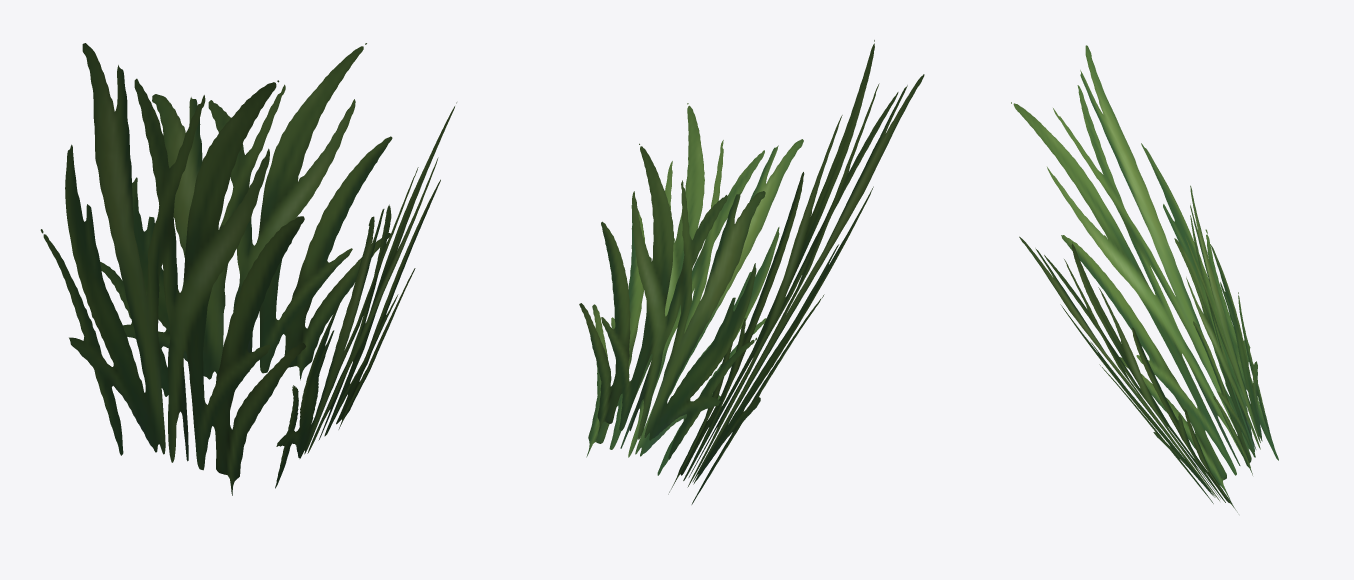
The model's file is Grass_A_3.fbx.
3 renders of one model, left to right at view 1: azimuth 30°, elevation 25°; view 2: azimuth 150°, elevation 25°; view 3: azimuth 270°, elevation 25°, orthographic. The views are drawn at different scales.
Visible parts, largest first — view 1: Grass_A_3__4_; view 2: Grass_A_3__4_; view 3: Grass_A_3__4_.
Boxes of the visible parts, x1,y1,x2,y2 form: Grass_A_3__4_: [40, 43, 456, 495]; Grass_A_3__4_: [579, 40, 924, 504]; Grass_A_3__4_: [1011, 45, 1278, 512].
Bounding box in the file's own units: 0.2029 × 0.2705 × 0.2052.
